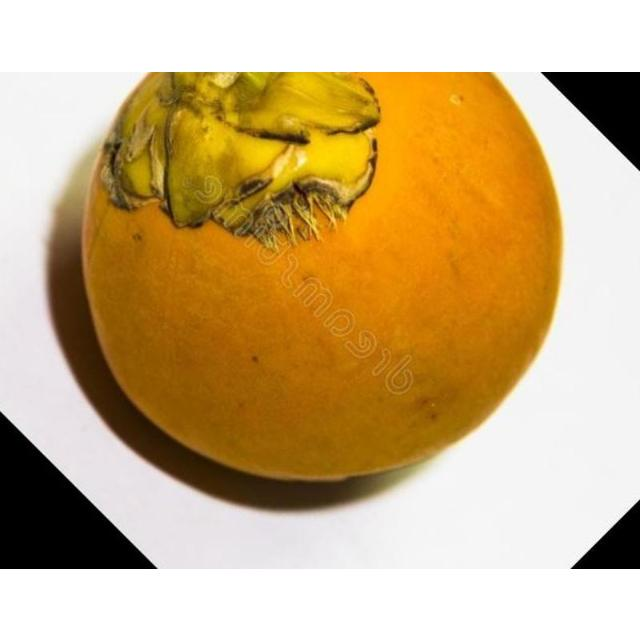good: (81, 71, 566, 486)
